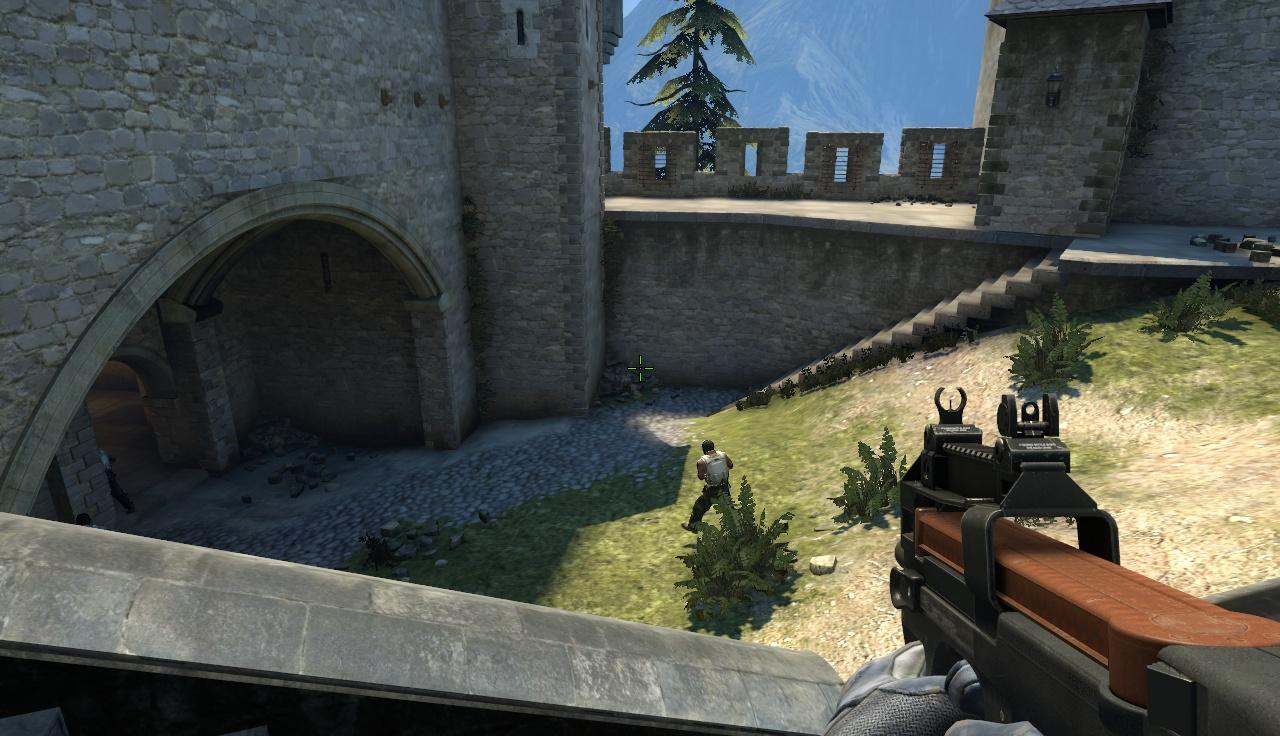rifle: (898, 382, 1274, 732)
tt: (692, 440, 731, 532), (99, 449, 135, 515)
tthead: (75, 511, 91, 529), (702, 440, 715, 456)
